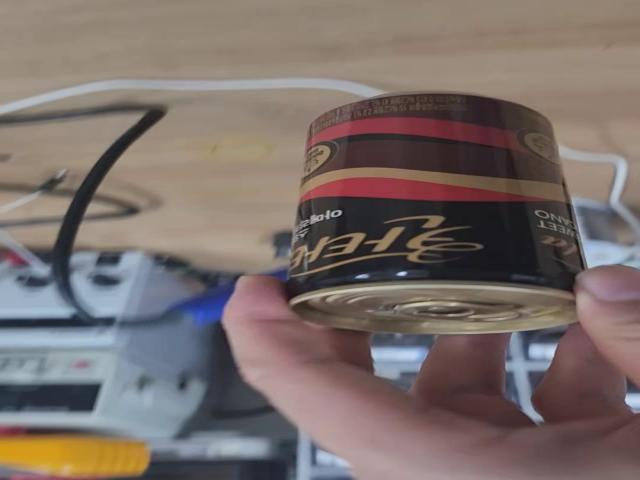Canned_drinks: (287, 93, 594, 340)
